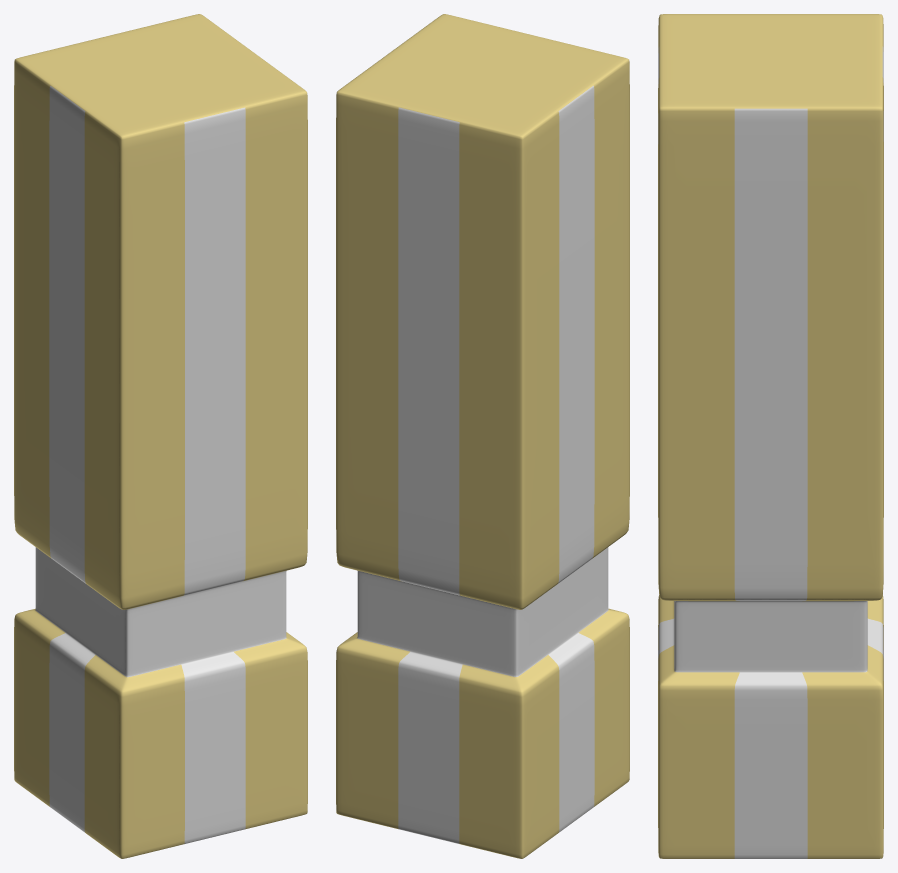
File: FloatingLightPole.fbx
3 renders of one model, left to right at view 1: azimuth 30°, elevation 25°; view 2: azimuth 150°, elevation 25°; view 3: azimuth 270°, elevation 25°, orthographic. The views are drawn at different scales.
Visible parts, largest first — view 1: Cube; view 2: Cube; view 3: Cube.
Part boxes in pixels (<box>): Cube: <box>14,14,307,858</box>; Cube: <box>336,14,629,858</box>; Cube: <box>658,14,883,858</box>.
Size of the model in its own units: 110 by 406 by 110.
